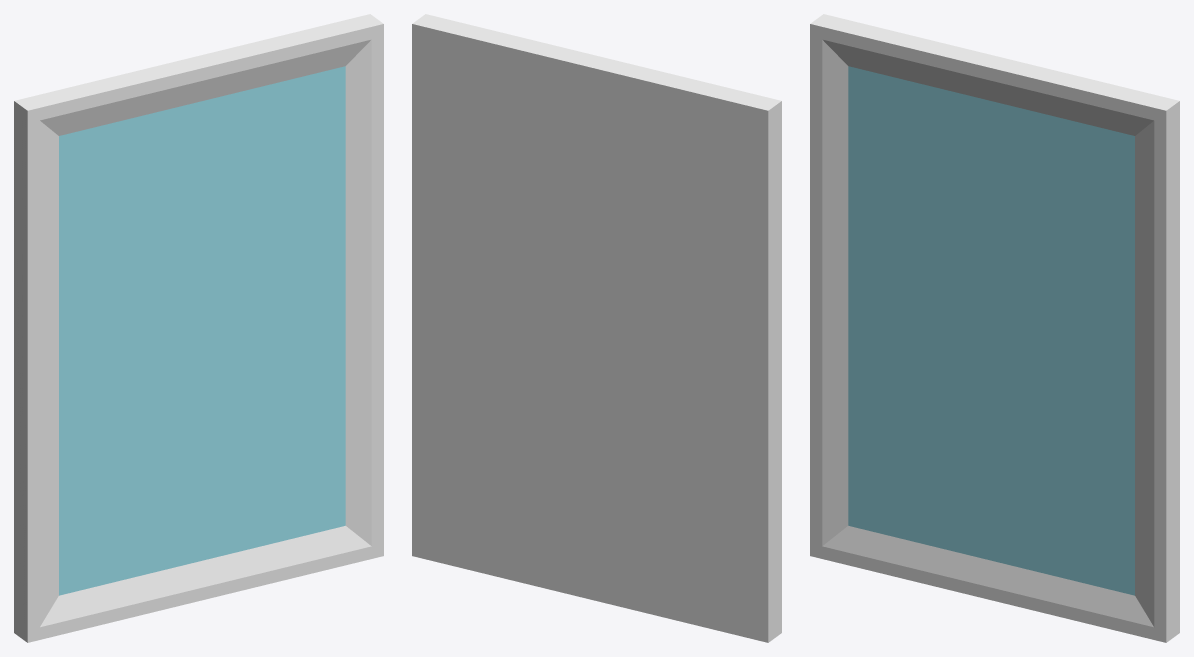
Rendered from Prop_Mirror_02.fbx.
3 views of the same model, side by side, from view 1: azimuth 30°, elevation 25°; view 2: azimuth 150°, elevation 25°; view 3: azimuth 330°, elevation 25° (orthographic).
Visible parts, largest first — view 1: Prop_Mirror_02; view 2: Prop_Mirror_02; view 3: Prop_Mirror_02.
Boxes of the visible parts, x1=… form: Prop_Mirror_02: x1=14, y1=14, x2=383, y2=642; Prop_Mirror_02: x1=412, y1=14, x2=781, y2=642; Prop_Mirror_02: x1=810, y1=14, x2=1179, y2=642.
Size of the model in its own units: 50.21 by 71.68 by 3.3.
